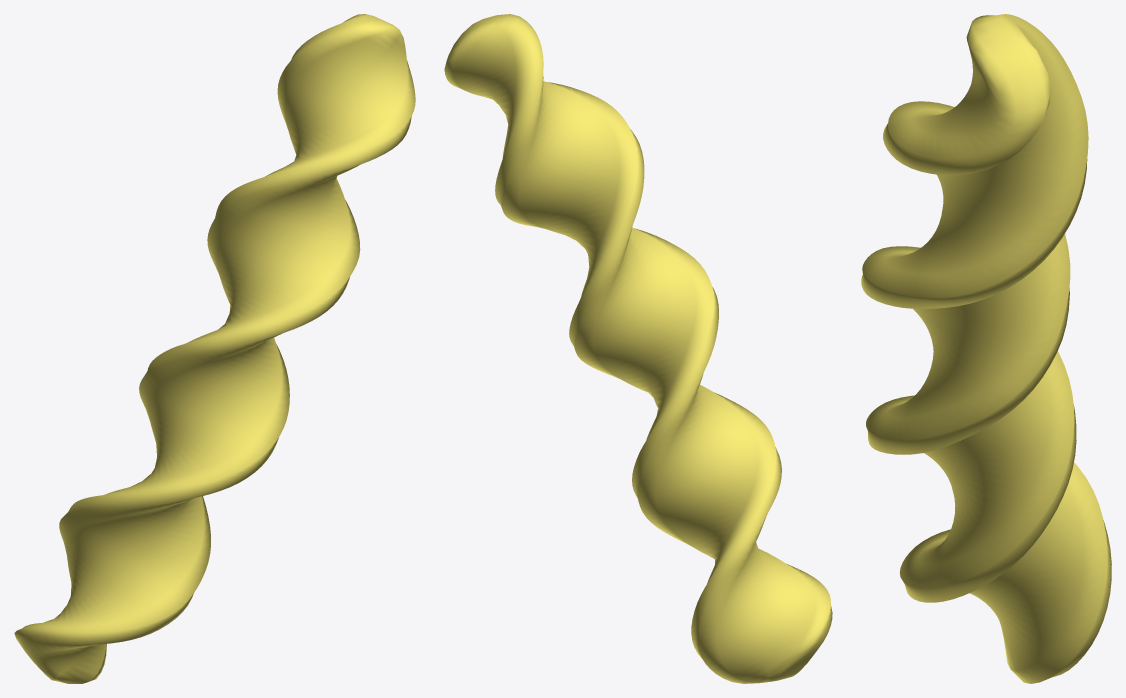
Rendered from Fusili.004.gltf.
3 views of the same model, side by side, from view 1: azimuth 30°, elevation 25°; view 2: azimuth 150°, elevation 25°; view 3: azimuth 270°, elevation 25° (orthographic). The views are drawn at different scales.
Parts seen in each view (by area): view 1: Fusili.004; view 2: Fusili.004; view 3: Fusili.004.
Part boxes in pixels (x1,y1,x2,y2): Fusili.004: (14,14,415,683); Fusili.004: (444,14,832,683); Fusili.004: (861,14,1111,683).
Size of the model in its own units: 0.9582 by 1.45 by 0.3958.
